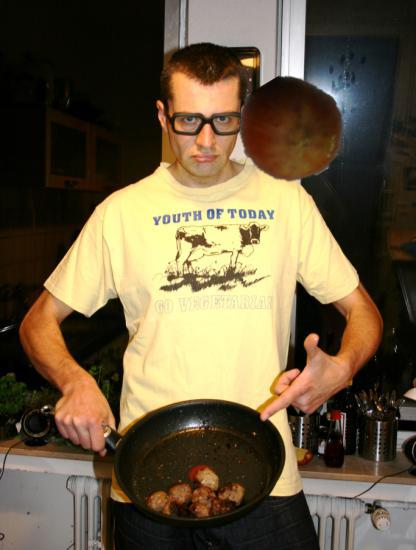Nut: (239, 77, 344, 182)
